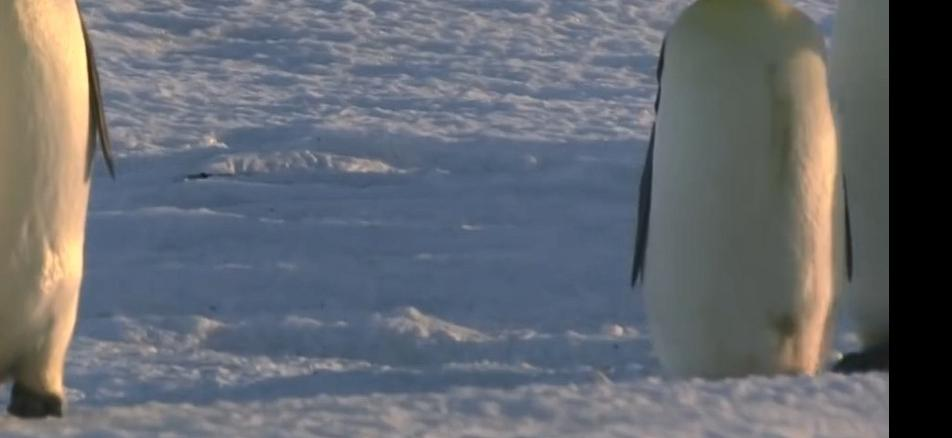Emperor Penguin: (623, 0, 864, 381), (0, 0, 130, 422), (698, 0, 932, 12)
